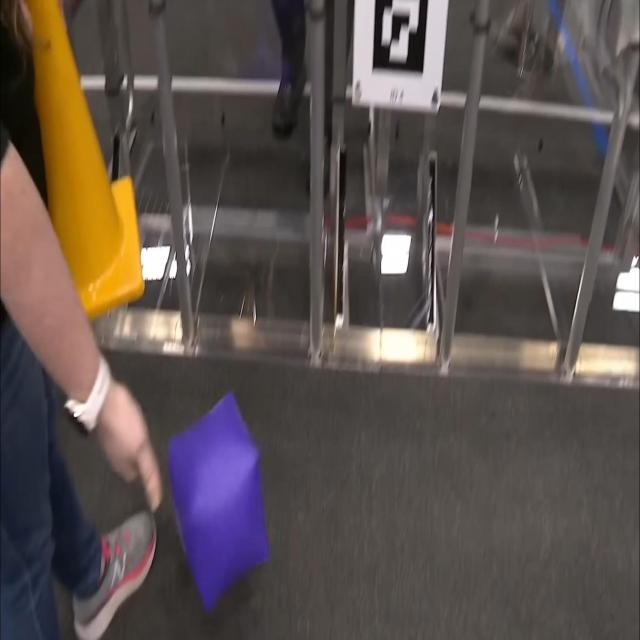frc_cone: (21, 0, 146, 317)
frc_cube: (168, 392, 272, 610)
